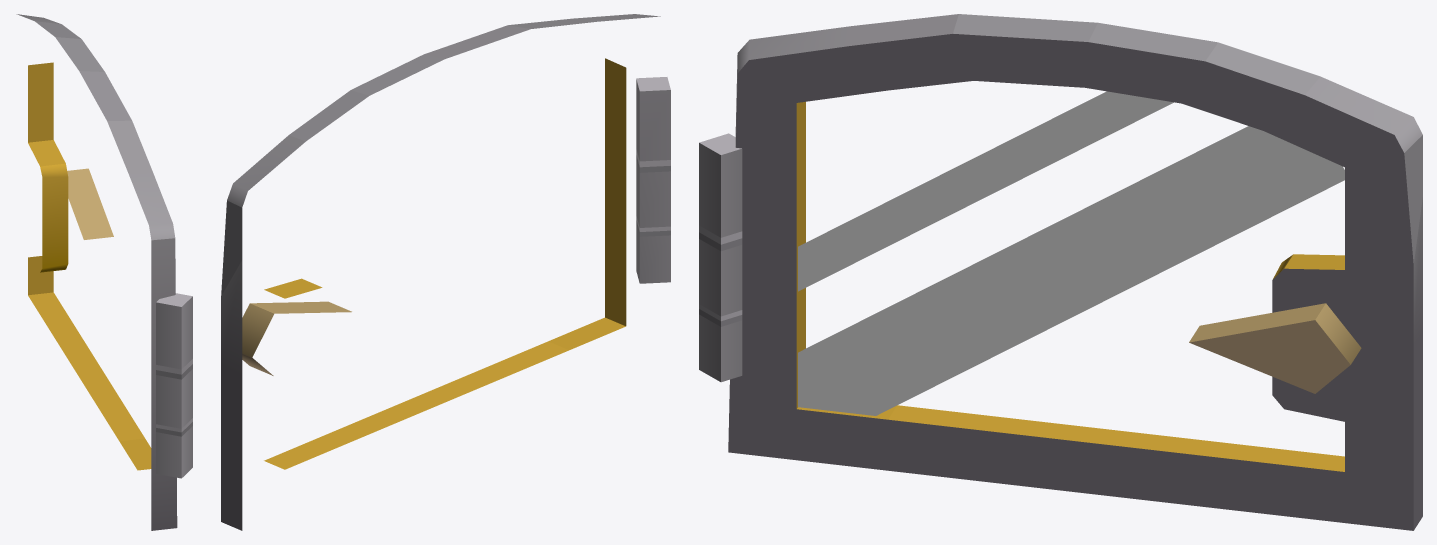
File: FurnaceDoor.glb
The picture shows the model from 3 angles, left to right: view 1: azimuth 30°, elevation 25°; view 2: azimuth 150°, elevation 25°; view 3: azimuth 270°, elevation 25°; orthographic projection. The views are drawn at different scales.
Parts seen in each view (by area): view 1: FurnaceDoor; view 2: FurnaceDoor; view 3: FurnaceDoor.
Boxes of the visible parts, <box> form: FurnaceDoor: <box>16,14,192,530</box>; FurnaceDoor: <box>221,14,670,530</box>; FurnaceDoor: <box>699,14,1422,530</box>.
Size of the model in its own units: 0.2793 by 0.5686 by 0.8171.
